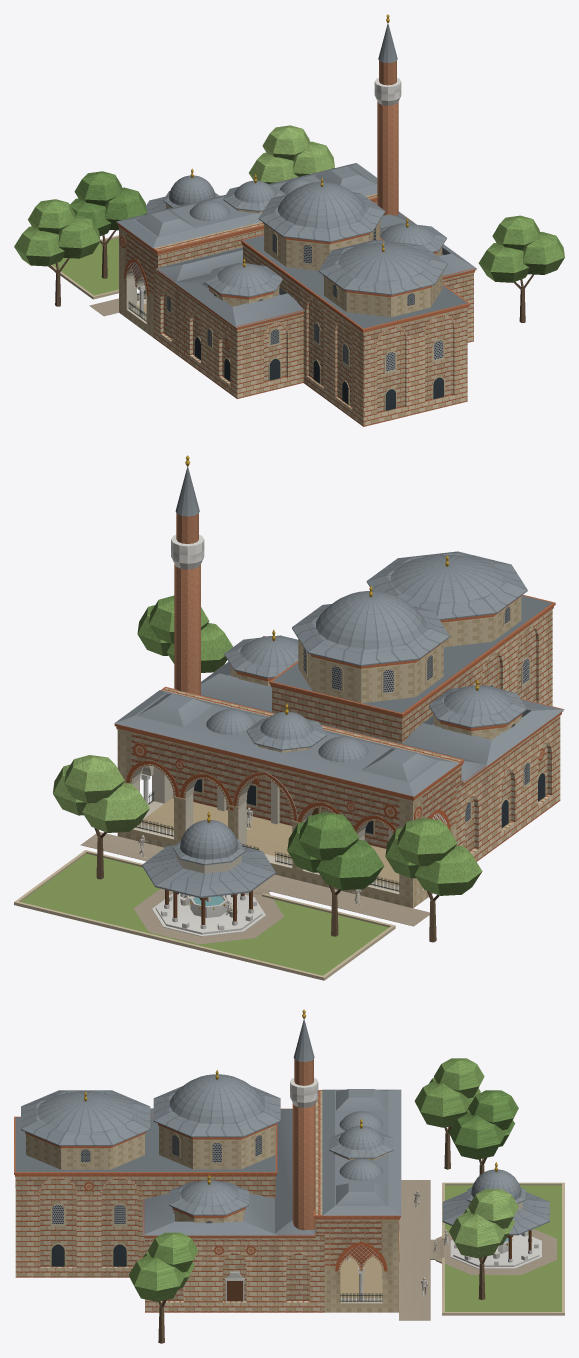
File: orhan-bey-camii_v06.glb
3 renders of one model, top to bottom at view 1: azimuth 30°, elevation 25°; view 2: azimuth 150°, elevation 25°; view 3: azimuth 270°, elevation 25°, orthographic. The views are drawn at different scales.
Parts seen in each view (by area): view 1: Cami_Govde, Cami_Mihrap, Kubbe_Mihrap, Kubbe_Ana, Kubbe_SonCemaat, Cevre_Agac_04, Cevre_Agac_01, Minare_1, Cevre_Agac_02, Cevre_Agac_03, Cevre_Doseme, Kubbe_Tabhane_B (+4 smaller); view 2: Cami_Govde, Cevre_Doseme, Cami_SonCemaat, Kubbe_SonCemaat, Kubbe_Ana, Sadirvan, Kubbe_Mihrap, Cami_Mihrap, Minare_1, Cevre_Agac_02, Cevre_Agac_03, Cevre_Agac_04 (+5 smaller); view 3: Cami_Govde, Cami_Mihrap, Cevre_Doseme, Kubbe_SonCemaat, Kubbe_Ana, Kubbe_Mihrap, Cami_SonCemaat, Sadirvan, Minare_1, Cevre_Agac_03, Cevre_Agac_01, Cevre_Agac_02 (+4 smaller).
Boxes of the visible parts, left/top/right/bottom form: Cami_Govde: left=116, top=174, right=476, bottom=411; Cami_Mihrap: left=297, top=274, right=467, bottom=426; Kubbe_Mihrap: left=318, top=240, right=447, bottom=317; Kubbe_Ana: left=258, top=182, right=385, bottom=270; Kubbe_SonCemaat: left=116, top=163, right=377, bottom=248; Cevre_Agac_04: left=14, top=199, right=100, bottom=266; Cevre_Agac_01: left=478, top=215, right=564, bottom=282; Minare_1: left=374, top=14, right=401, bottom=215; Cevre_Agac_02: left=249, top=125, right=334, bottom=184; Cevre_Agac_03: left=70, top=171, right=146, bottom=236; Cevre_Doseme: left=48, top=235, right=146, bottom=316; Kubbe_Tabhane_B: left=204, top=263, right=282, bottom=306; Cami_Govde: left=114, top=555, right=564, bottom=886; Cevre_Doseme: left=14, top=832, right=429, bottom=980; Cami_SonCemaat: left=117, top=729, right=456, bottom=908; Kubbe_SonCemaat: left=114, top=690, right=459, bottom=796; Kubbe_Ana: left=292, top=591, right=449, bottom=703; Sadirvan: left=142, top=811, right=275, bottom=936; Kubbe_Mihrap: left=366, top=551, right=527, bottom=647; Cami_Mihrap: left=443, top=595, right=552, bottom=706; Minare_1: left=171, top=455, right=204, bottom=695; Cevre_Agac_02: left=53, top=755, right=149, bottom=832; Cevre_Agac_03: left=287, top=812, right=384, bottom=890; Cevre_Agac_04: left=385, top=818, right=482, bottom=895; Cami_Govde: left=14, top=1070, right=400, bottom=1312; Cami_Mihrap: left=15, top=1117, right=158, bottom=1277; Cevre_Doseme: left=399, top=1180, right=564, bottom=1320; Kubbe_SonCemaat: left=322, top=1089, right=401, bottom=1215; Kubbe_Ana: left=153, top=1074, right=280, bottom=1169; Kubbe_Mihrap: left=21, top=1090, right=150, bottom=1169; Cami_SonCemaat: left=324, top=1220, right=398, bottom=1312; Sadirvan: left=442, top=1162, right=549, bottom=1268; Minare_1: left=290, top=1009, right=318, bottom=1230; Cevre_Agac_03: left=449, top=1090, right=518, bottom=1159; Cevre_Agac_01: left=128, top=1232, right=198, bottom=1301; Cevre_Agac_02: left=449, top=1189, right=518, bottom=1258.
Size of the model in its own units: 44.13 by 28.65 by 48.16.
Materials: 18 (17 with a texture image).
